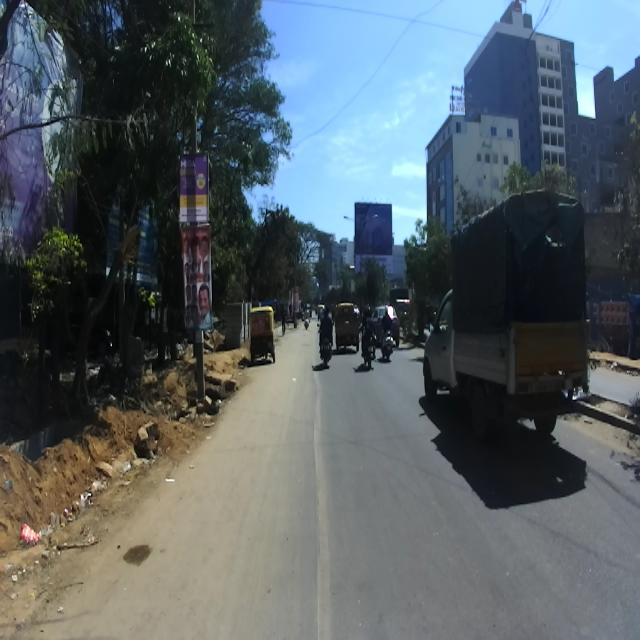auto ahead at: (243, 306, 277, 364)
electric pole ahead at: (174, 111, 220, 420)
stones ahead at: (132, 411, 160, 459)
truck ahead at: (414, 185, 596, 446)
